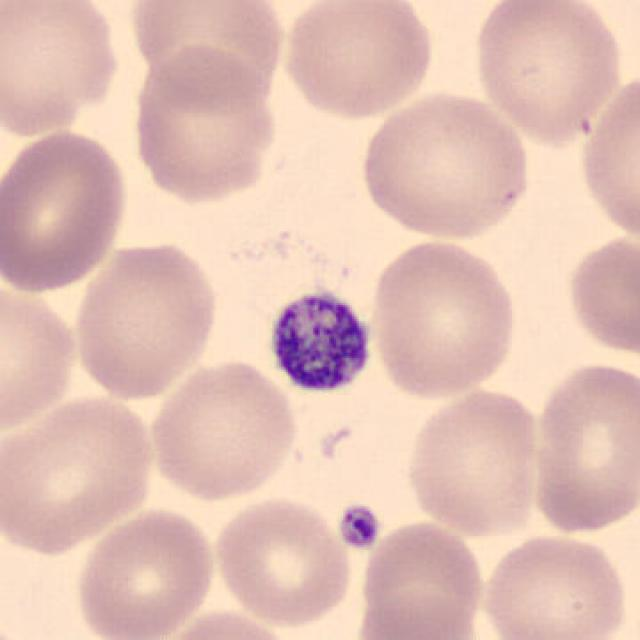Platelets: (261, 286, 377, 398), (334, 501, 382, 552)
RBC: (352, 88, 535, 242), (0, 390, 160, 557), (364, 234, 521, 402), (126, 42, 283, 208), (68, 236, 224, 402), (144, 356, 302, 504), (469, 0, 627, 146), (0, 125, 133, 296), (402, 384, 546, 540), (526, 356, 638, 538), (71, 504, 219, 640), (277, 0, 439, 122), (210, 493, 356, 628), (124, 0, 290, 111), (0, 0, 126, 143), (476, 529, 633, 640), (356, 517, 487, 638), (0, 273, 82, 439), (574, 65, 638, 249), (562, 230, 638, 362), (348, 589, 486, 640), (151, 606, 298, 640)
